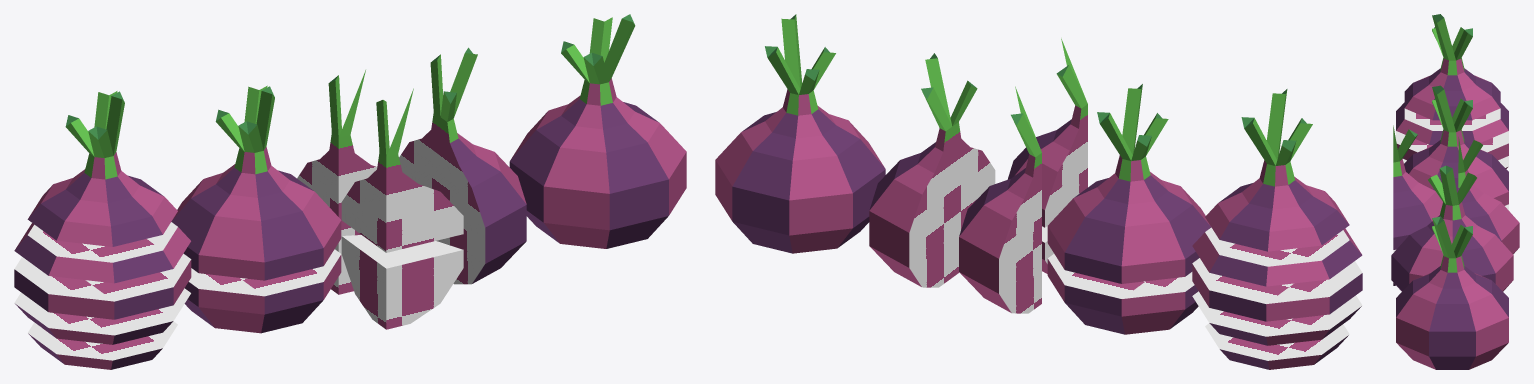
Rendered from onion_model.fbx.
3 views of the same model, side by side, from view 1: azimuth 30°, elevation 25°; view 2: azimuth 150°, elevation 25°; view 3: azimuth 270°, elevation 25° (orthographic). The views are drawn at different scales.
Visible parts, largest first — view 1: OnionFull, OnionTopHalf, OnionHalf, OnionTop, OnionTopDice, OnionBottomDice, OnionBottomHalf, OnionSlice, OnionTopSlice, OnionQuarter, OnionBottomSlice, OnionBottom; view 2: OnionFull, OnionTopHalf, OnionHalf, OnionQuarter, OnionTop, OnionBottomHalf, OnionSlice, OnionTopSlice, OnionTopDice, OnionBottomSlice, OnionBottom; view 3: OnionFull, OnionHalf, OnionTopHalf, OnionTop, OnionTopDice, OnionQuarter, OnionTopSlice, OnionSlice.
Part boxes in pixels (x1,y1,x2,y2): OnionFull: [509, 14, 686, 248]; OnionTopHalf: [171, 85, 341, 280]; OnionHalf: [399, 47, 526, 284]; OnionTop: [27, 91, 177, 246]; OnionTopDice: [341, 88, 463, 252]; OnionBottomDice: [341, 235, 463, 329]; OnionBottomHalf: [184, 249, 341, 333]; OnionSlice: [14, 253, 191, 319]; OnionTopSlice: [14, 222, 190, 283]; OnionQuarter: [297, 70, 377, 294]; OnionBottomSlice: [14, 288, 190, 344]; OnionBottom: [28, 321, 177, 369]; OnionFull: [715, 14, 885, 253]; OnionTopHalf: [1047, 84, 1211, 283]; OnionHalf: [869, 53, 995, 287]; OnionQuarter: [959, 86, 1041, 313]; OnionTop: [1205, 89, 1349, 251]; OnionBottomHalf: [1047, 254, 1198, 334]; OnionSlice: [1192, 258, 1362, 321]; OnionTopSlice: [1192, 227, 1362, 286]; OnionTopDice: [1007, 38, 1087, 227]; OnionBottomSlice: [1192, 291, 1362, 345]; OnionBottom: [1205, 323, 1349, 369]; OnionFull: [1396, 216, 1508, 369]; OnionHalf: [1391, 165, 1513, 291]; OnionTopHalf: [1404, 85, 1508, 205]; OnionTop: [1404, 14, 1500, 120]; OnionTopDice: [1393, 125, 1442, 249]; OnionQuarter: [1458, 137, 1519, 254]; OnionTopSlice: [1396, 102, 1508, 144]; OnionSlice: [1396, 131, 1508, 160].
Bounding box in the file's own units: 26.57 × 10.63 × 6.75.
Materials: 1 (1 with a texture image).
